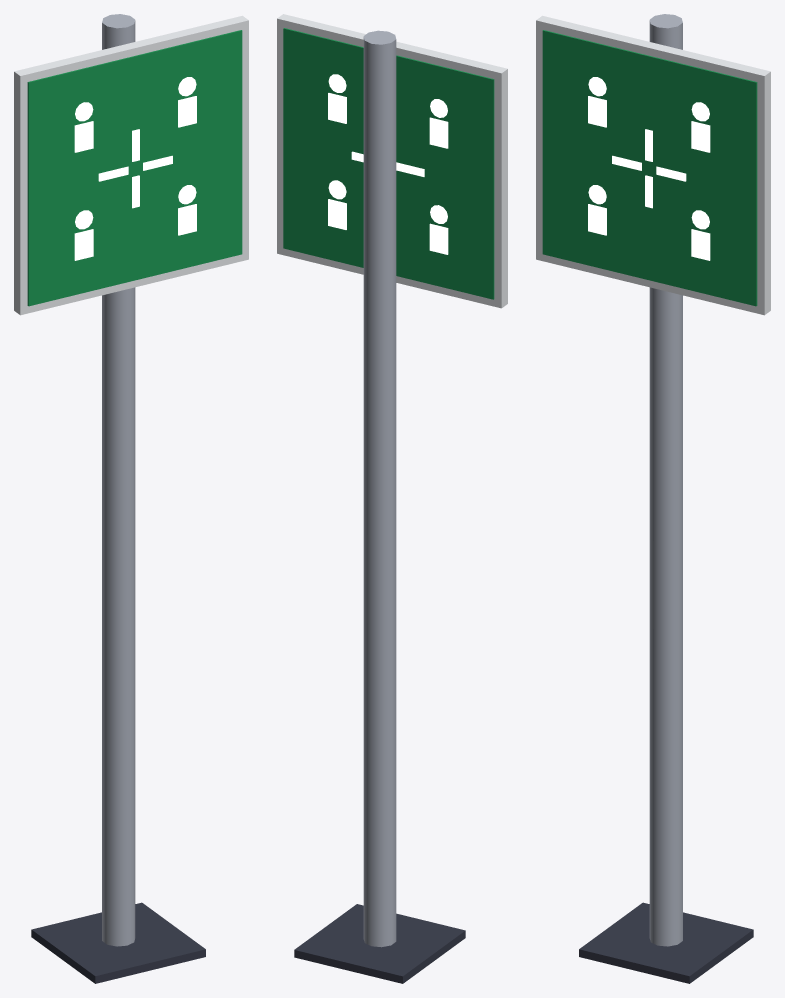
The model's file is ame-014.glb.
3 views of the same model, side by side, from view 1: azimuth 30°, elevation 25°; view 2: azimuth 150°, elevation 25°; view 3: azimuth 330°, elevation 25° (orthographic).
Parts seen in each view (by area): view 1: safety_green, steel, white, dark_steel, display_white; view 2: safety_green, steel, white, dark_steel, display_white; view 3: safety_green, steel, white, dark_steel, display_white.
Part boxes in pixels (bbox=[...]): safety_green: bbox=[27, 30, 242, 306]; steel: bbox=[102, 14, 135, 946]; white: bbox=[14, 15, 248, 315]; dark_steel: bbox=[31, 902, 205, 983]; display_white: bbox=[74, 77, 196, 260]; safety_green: bbox=[283, 28, 494, 299]; steel: bbox=[363, 30, 396, 947]; white: bbox=[277, 14, 507, 308]; dark_steel: bbox=[294, 904, 465, 983]; display_white: bbox=[328, 74, 448, 254]; safety_green: bbox=[542, 30, 757, 306]; steel: bbox=[649, 14, 682, 946]; white: bbox=[536, 15, 770, 315]; dark_steel: bbox=[579, 902, 753, 983]; display_white: bbox=[588, 77, 710, 260].
Size of the model in its own units: 0.62 by 2.4 by 0.3.
